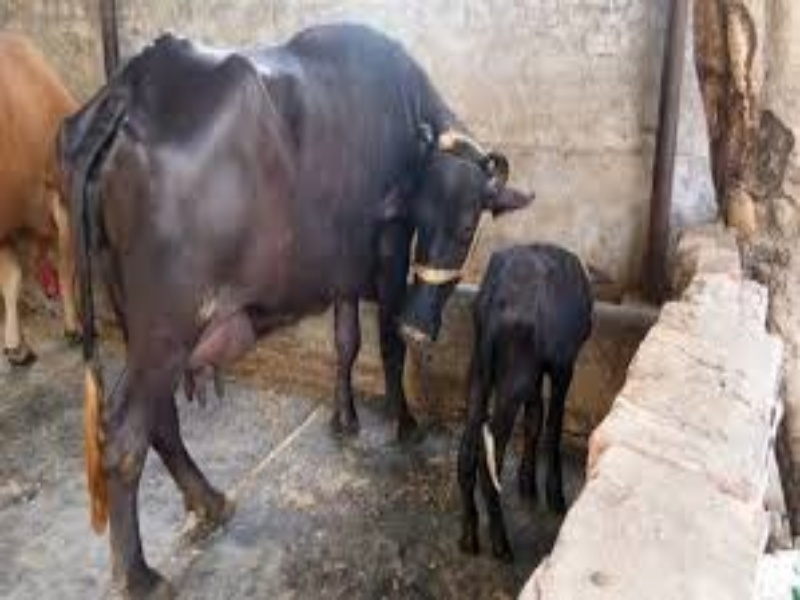buffalo: (30, 24, 587, 547)
